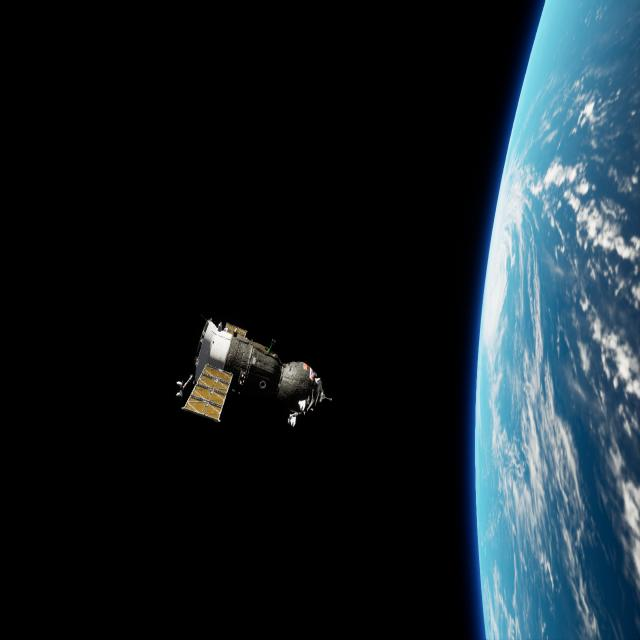Satellites revolving around earth: (471, 1, 638, 638), (174, 316, 333, 432)
